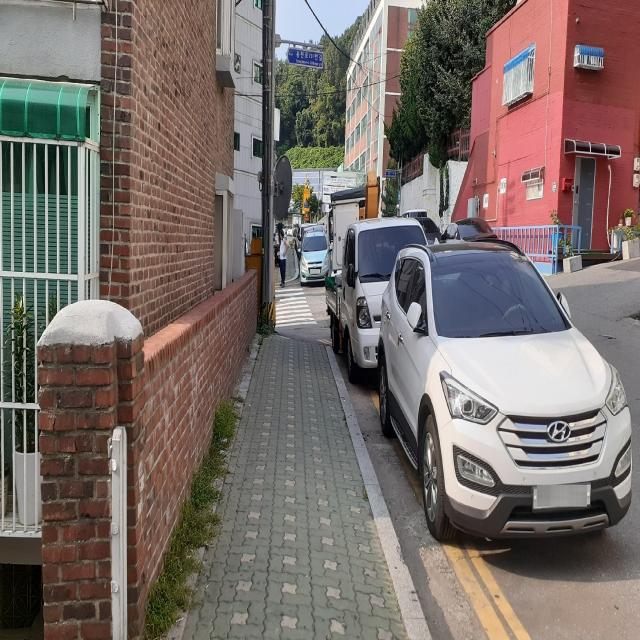횡단보도: (275, 288, 317, 327)
